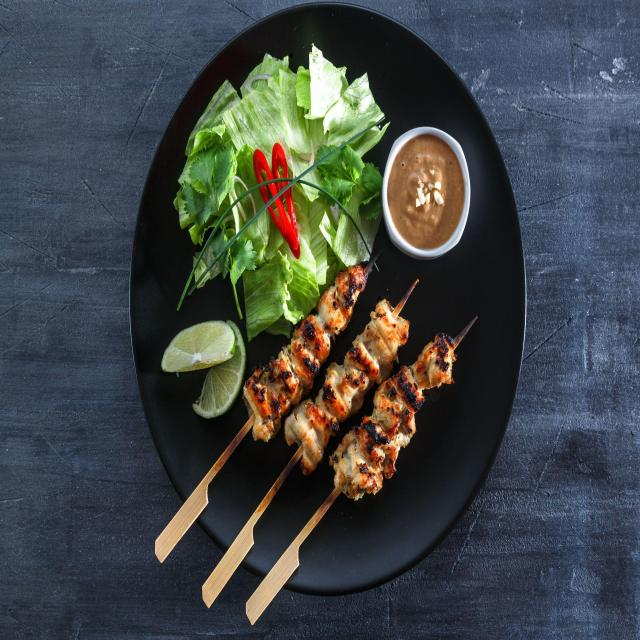Sate: (245, 247, 482, 629)
